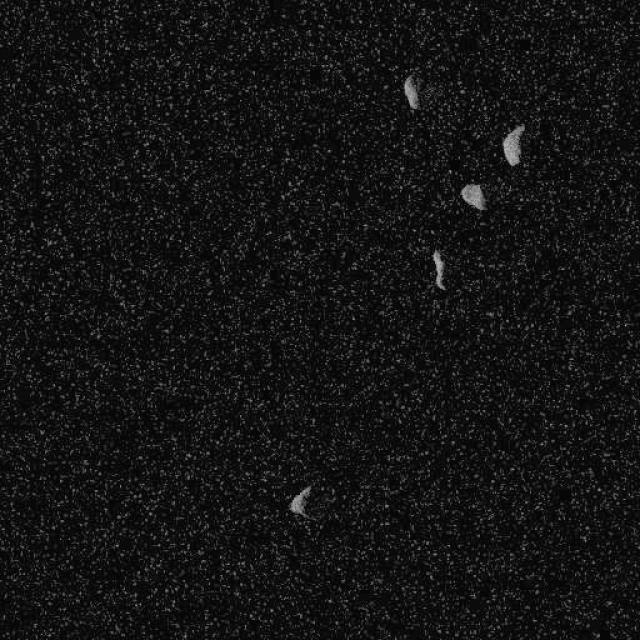D2: (501, 122, 525, 166), (458, 181, 488, 211), (288, 484, 312, 518), (430, 248, 448, 292), (402, 74, 420, 110)
